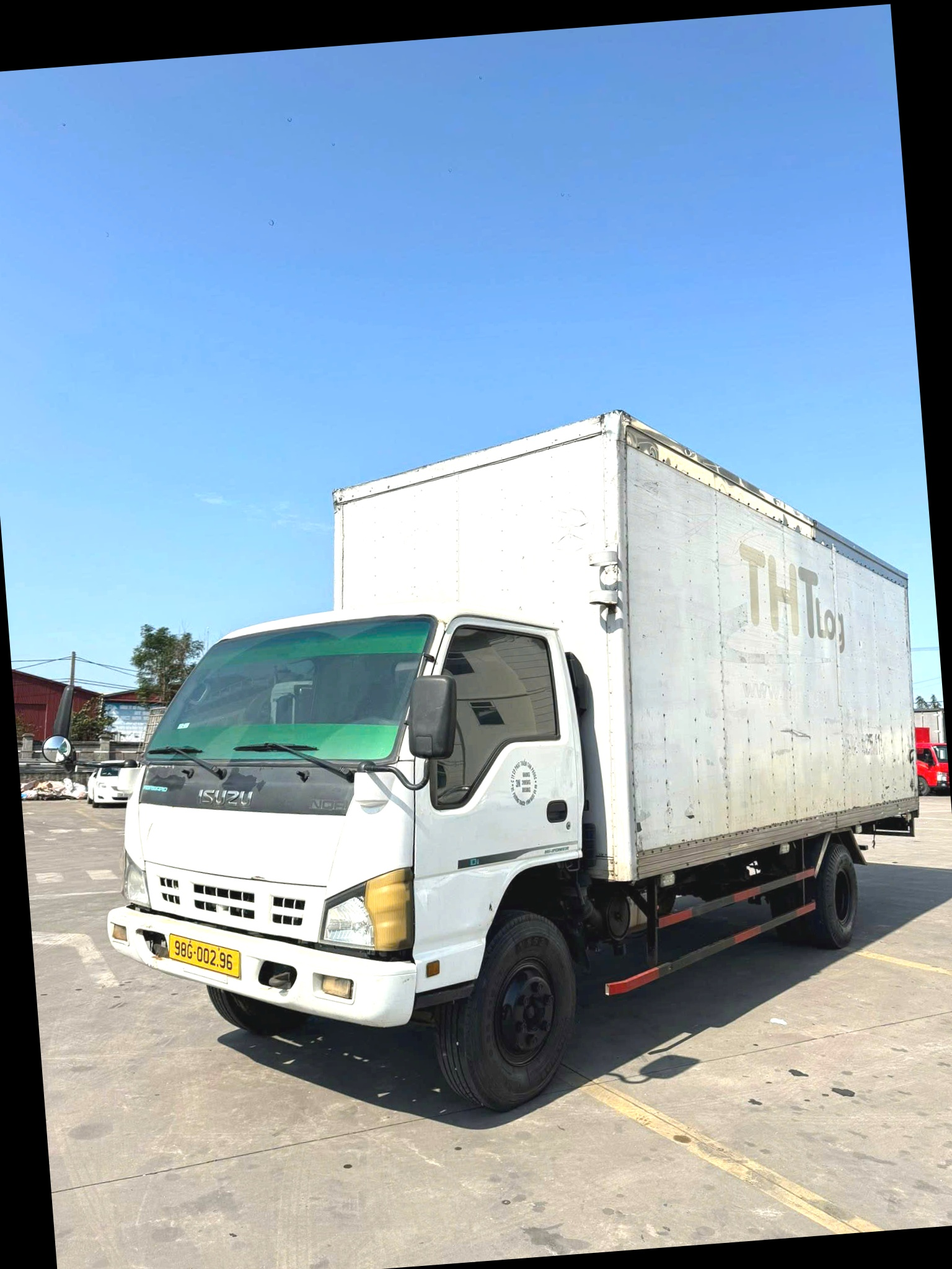Bien-so: (141, 868, 227, 932)
